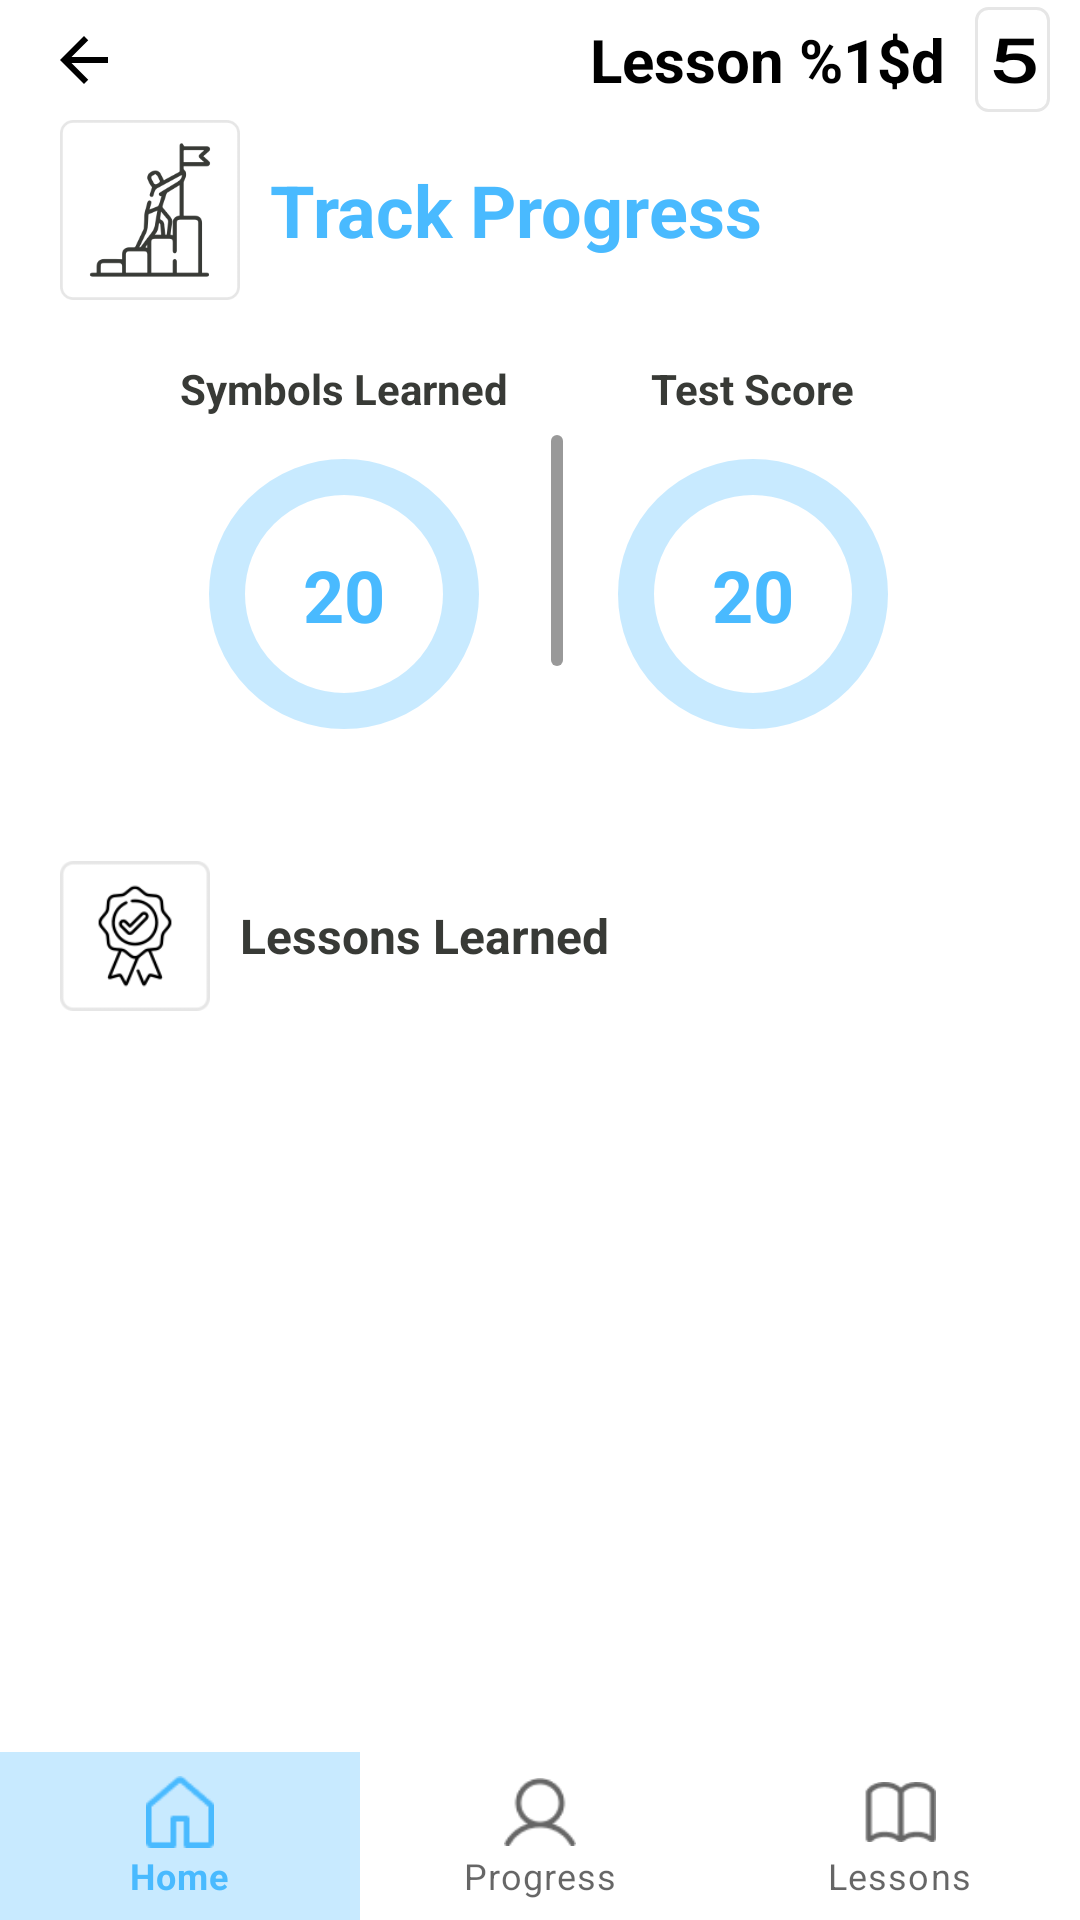

Icons on this 1080*1920 Android screen, each with its box as (x1, y1, x2, y2):
award: (60, 861, 210, 1011)
